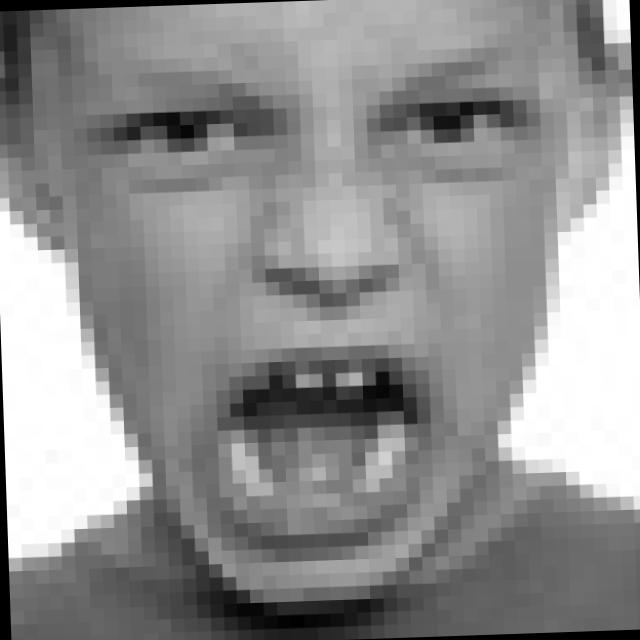angry: (87, 35, 552, 558)
